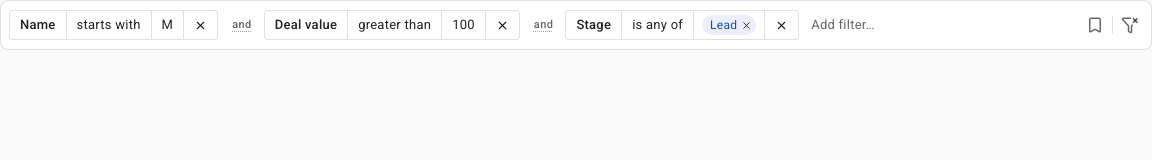
Test: joiner stops › flipping one gap leaves every other joiner label unchanged
Click the dropdown labelled "Add filter" at (941, 25), box [807,11,1074,39]
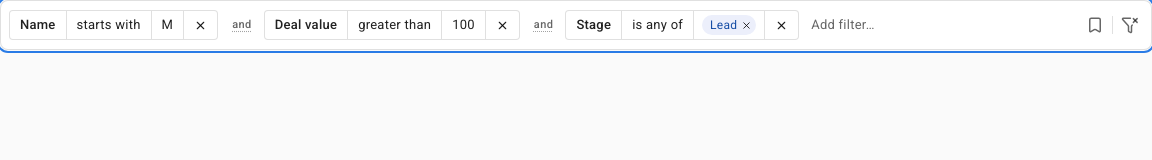
Press Arrowleft Arrowleft Enter
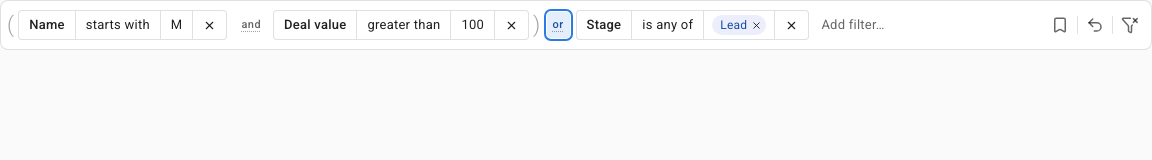
Expected: the button named "Joined by and. Switch to or — grouping adjusts automatically." is shown, [236,12,267,38]
Now the button named "Joined by or. Switch to and — grouping adjusts automatically." is shown, box [546,12,570,38]
